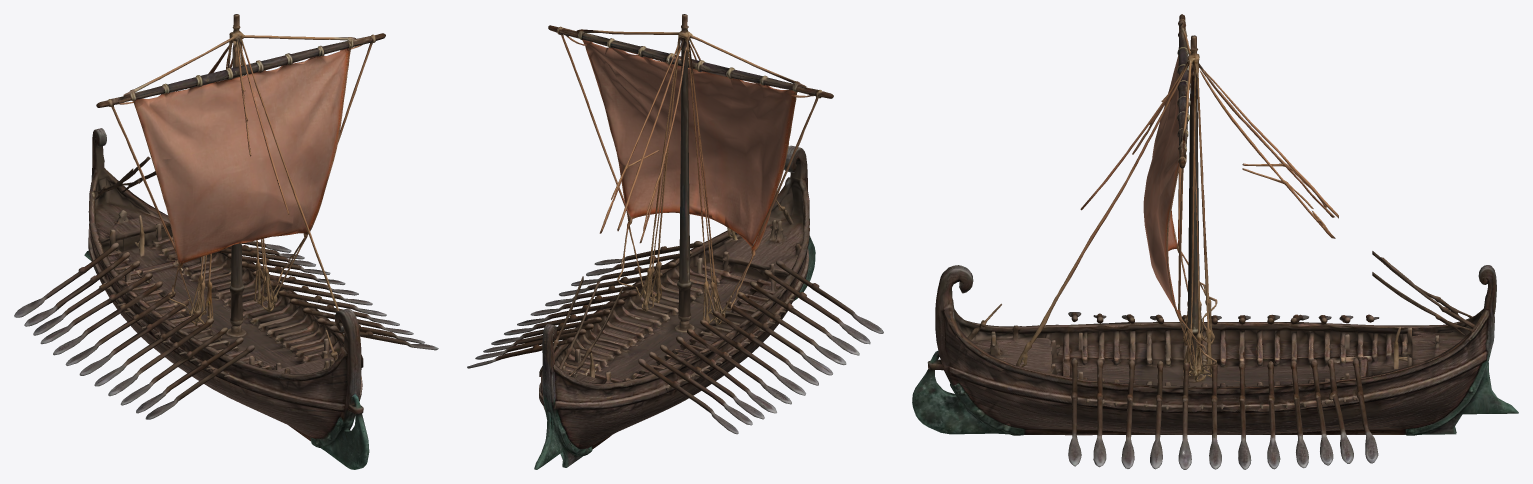
The model's file is ship.glb.
3 views of the same model, side by side, from view 1: azimuth 30°, elevation 25°; view 2: azimuth 150°, elevation 25°; view 3: azimuth 270°, elevation 25° (orthographic). The views are drawn at different scales.
Visible parts, largest first — view 1: tripo_node_d031524e-dca8-4097-a66b-2d2b10c3b550; view 2: tripo_node_d031524e-dca8-4097-a66b-2d2b10c3b550; view 3: tripo_node_d031524e-dca8-4097-a66b-2d2b10c3b550.
Boxes of the visible parts, bbox=[...] form: tripo_node_d031524e-dca8-4097-a66b-2d2b10c3b550: bbox=[14, 14, 438, 469]; tripo_node_d031524e-dca8-4097-a66b-2d2b10c3b550: bbox=[467, 14, 883, 469]; tripo_node_d031524e-dca8-4097-a66b-2d2b10c3b550: bbox=[912, 14, 1518, 469].
Size of the model in its own units: 0.599 by 0.7226 by 0.9995.
1 material, 1 textured.
